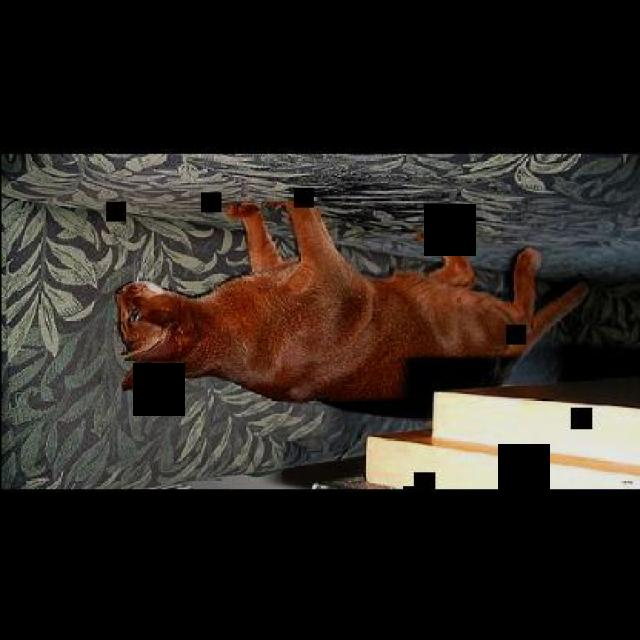unauthorized: (112, 196, 590, 407)
